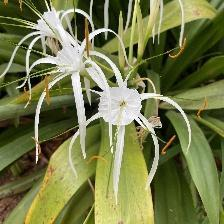spider lily: (85, 75, 166, 156)
